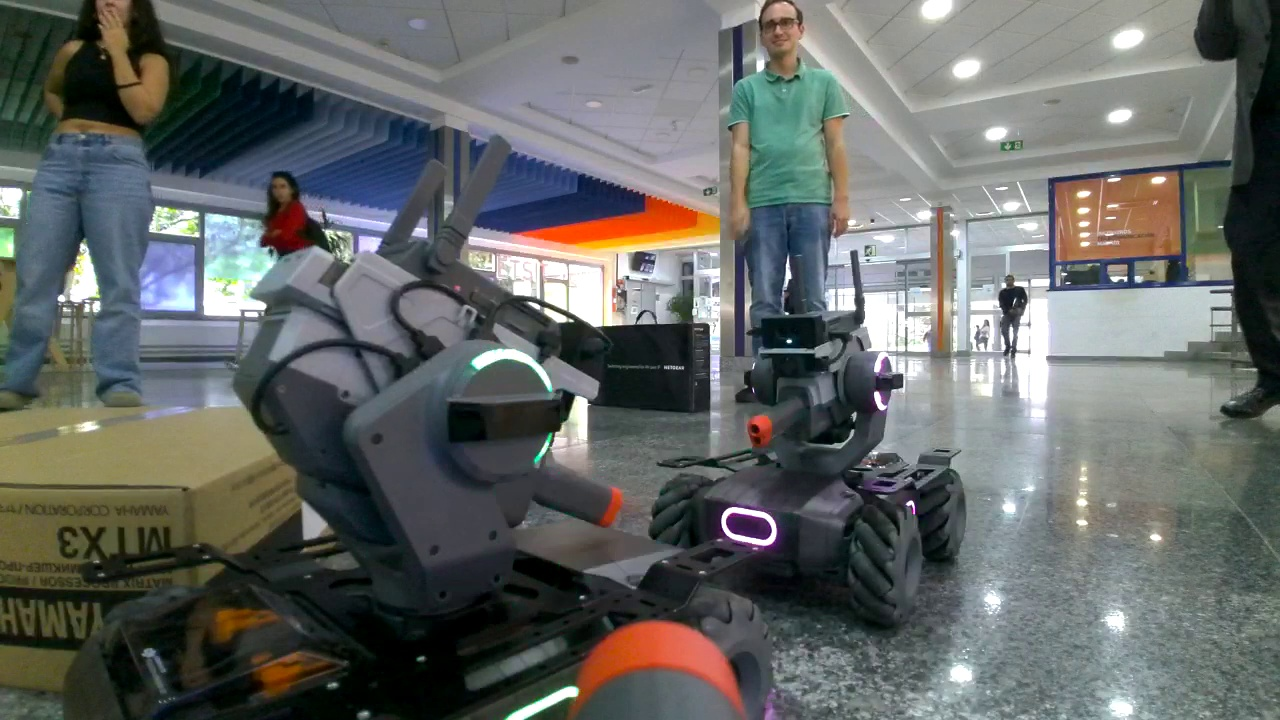robot: (67, 248, 780, 714), (649, 307, 969, 637)
